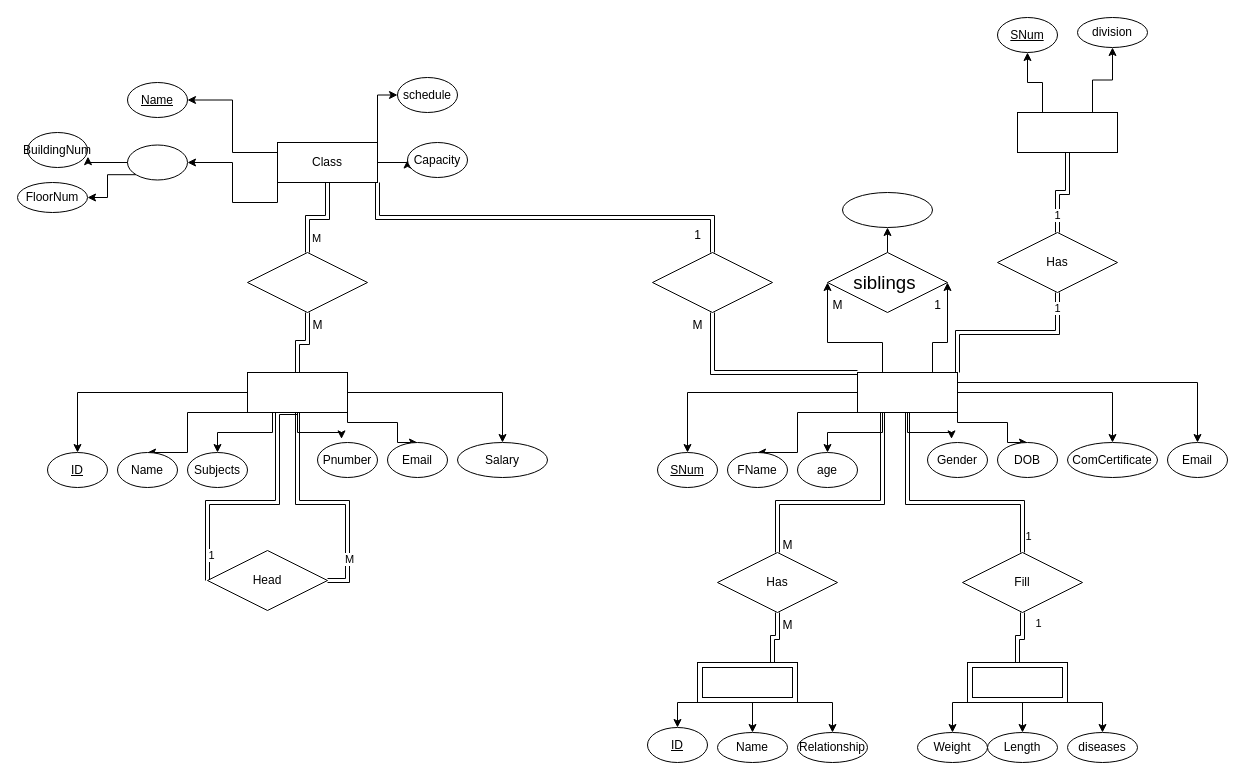
The diagram is 1245 pixels wide and 780 high, and some of its shapes have lost their labels. The centre of each missing label's shape, as x and y in pixels:
"Application" belongs at point (1067, 132).
"Attend" belongs at point (712, 282).
"Discount" belongs at point (887, 210).
"Join" belongs at point (307, 282).
"Location" belongs at point (157, 162).
"Medical report" belongs at point (1017, 682).
"Parent" belongs at point (747, 682).
"Student" belongs at point (907, 392).
"Teacher" belongs at point (297, 392).
